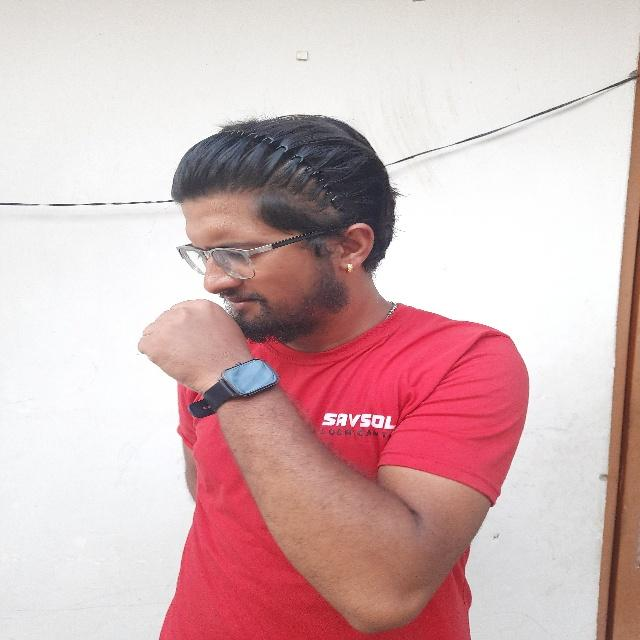Fist Mouth: (124, 118, 374, 417)
